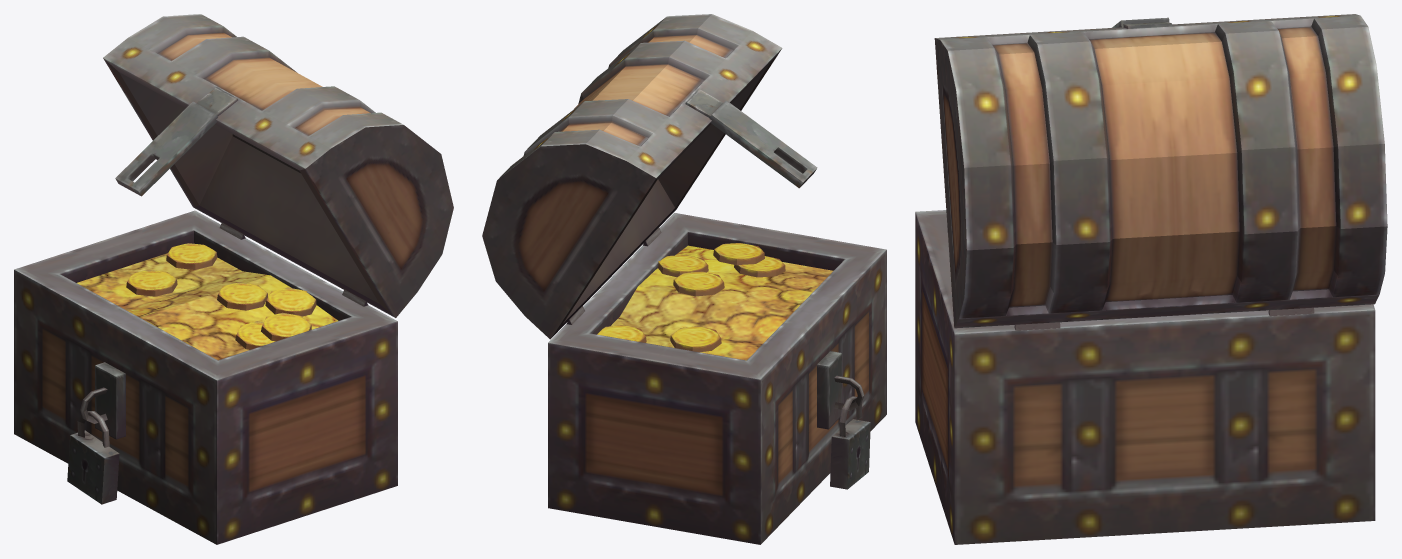
The model's file is daoju_8.fbx.
3 views of the same model, side by side, from view 1: azimuth 30°, elevation 25°; view 2: azimuth 150°, elevation 25°; view 3: azimuth 270°, elevation 25° (orthographic). The views are drawn at different scales.
Parts seen in each view (by area): view 1: daoju_8; view 2: daoju_8; view 3: daoju_8.
Part boxes in pixels (left/top/right/bottom): daoju_8: left=14, top=14, right=453, bottom=544; daoju_8: left=482, top=14, right=886, bottom=544; daoju_8: left=915, top=14, right=1387, bottom=544.
Size of the model in its own units: 173 by 195 by 176.
